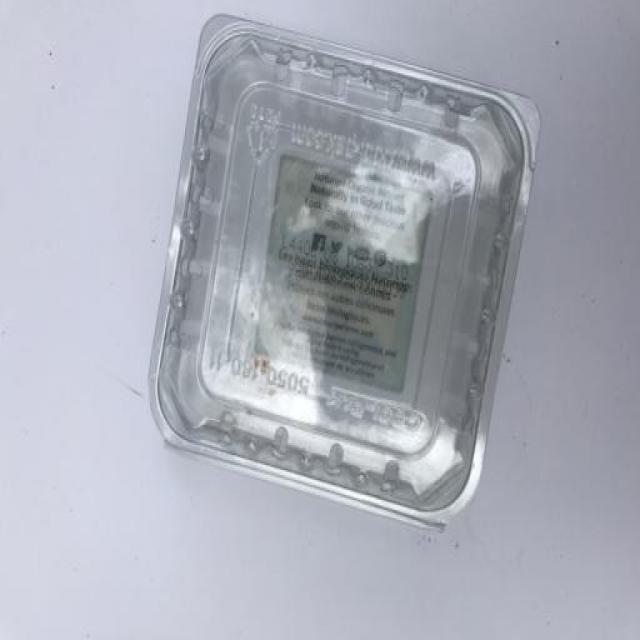Plastic: (151, 11, 544, 533)
